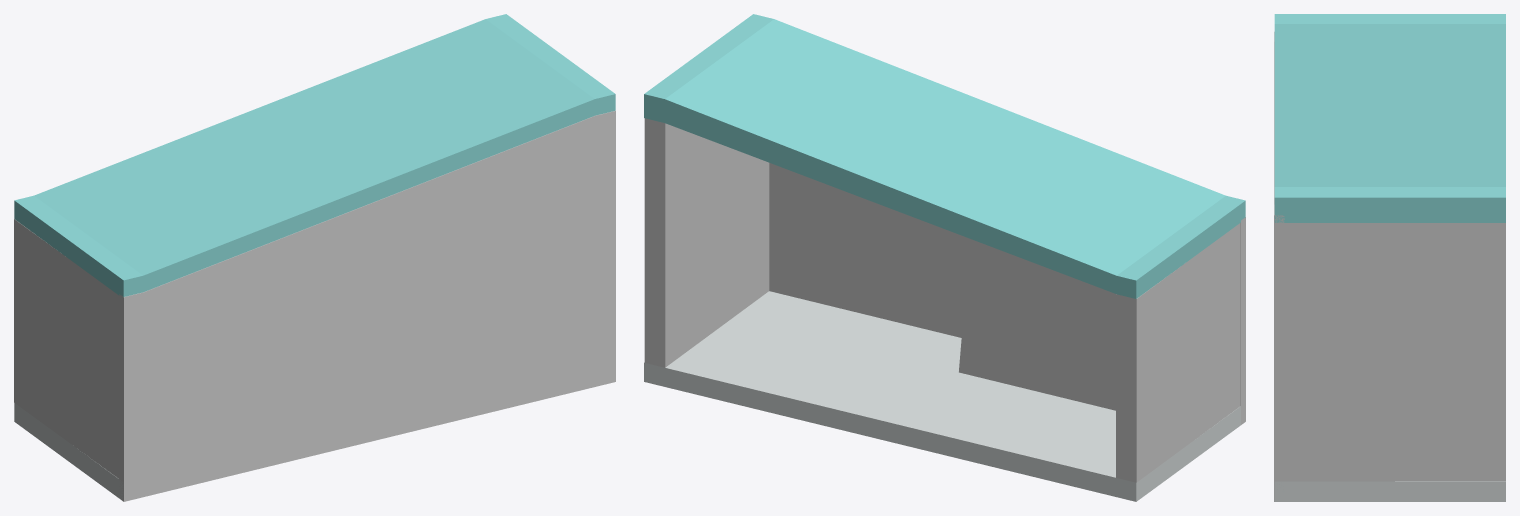
File: Escena2Fondo.fbx
The picture shows the model from 3 angles, left to right: view 1: azimuth 30°, elevation 25°; view 2: azimuth 150°, elevation 25°; view 3: azimuth 270°, elevation 25°; orthographic projection. The views are drawn at different scales.
Parts seen in each view (by area): view 1: Fondo, Paredes, Paredes.003, Suelo; view 2: Paredes, Suelo, Fondo, Paredes.002, Paredes.003; view 3: Paredes.002, Paredes, Suelo, Fondo.
Part boxes in pixels (left/top/right/bottom): Fondo: left=119, top=110, right=615, bottom=501; Paredes: left=14, top=14, right=615, bottom=297; Paredes.003: left=14, top=219, right=118, bottom=478; Suelo: left=14, top=403, right=123, bottom=500; Paredes: left=644, top=14, right=1245, bottom=298; Suelo: left=644, top=291, right=1240, bottom=501; Fondo: left=769, top=163, right=1245, bottom=424; Paredes.002: left=644, top=118, right=769, bottom=367; Paredes.003: left=1116, top=223, right=1240, bottom=482; Paredes.002: left=1284, top=223, right=1505, bottom=481; Paredes: left=1274, top=14, right=1505, bottom=222; Suelo: left=1274, top=481, right=1505, bottom=501; Fondo: left=1274, top=31, right=1284, bottom=501.
Size of the model in its own units: 26.8 by 14.96 by 10.33.
